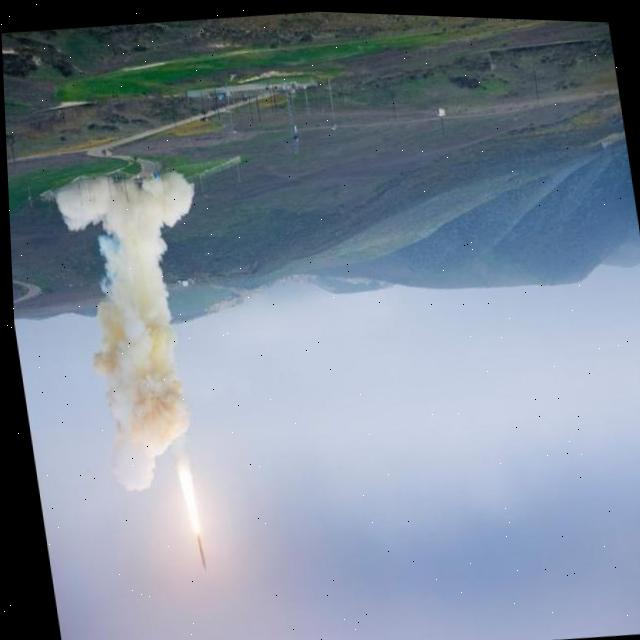missile: (189, 530, 206, 572)
